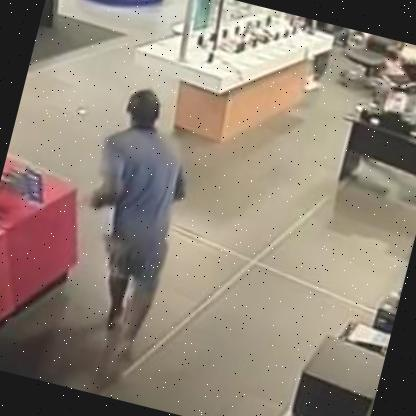person: (50, 76, 216, 367)
